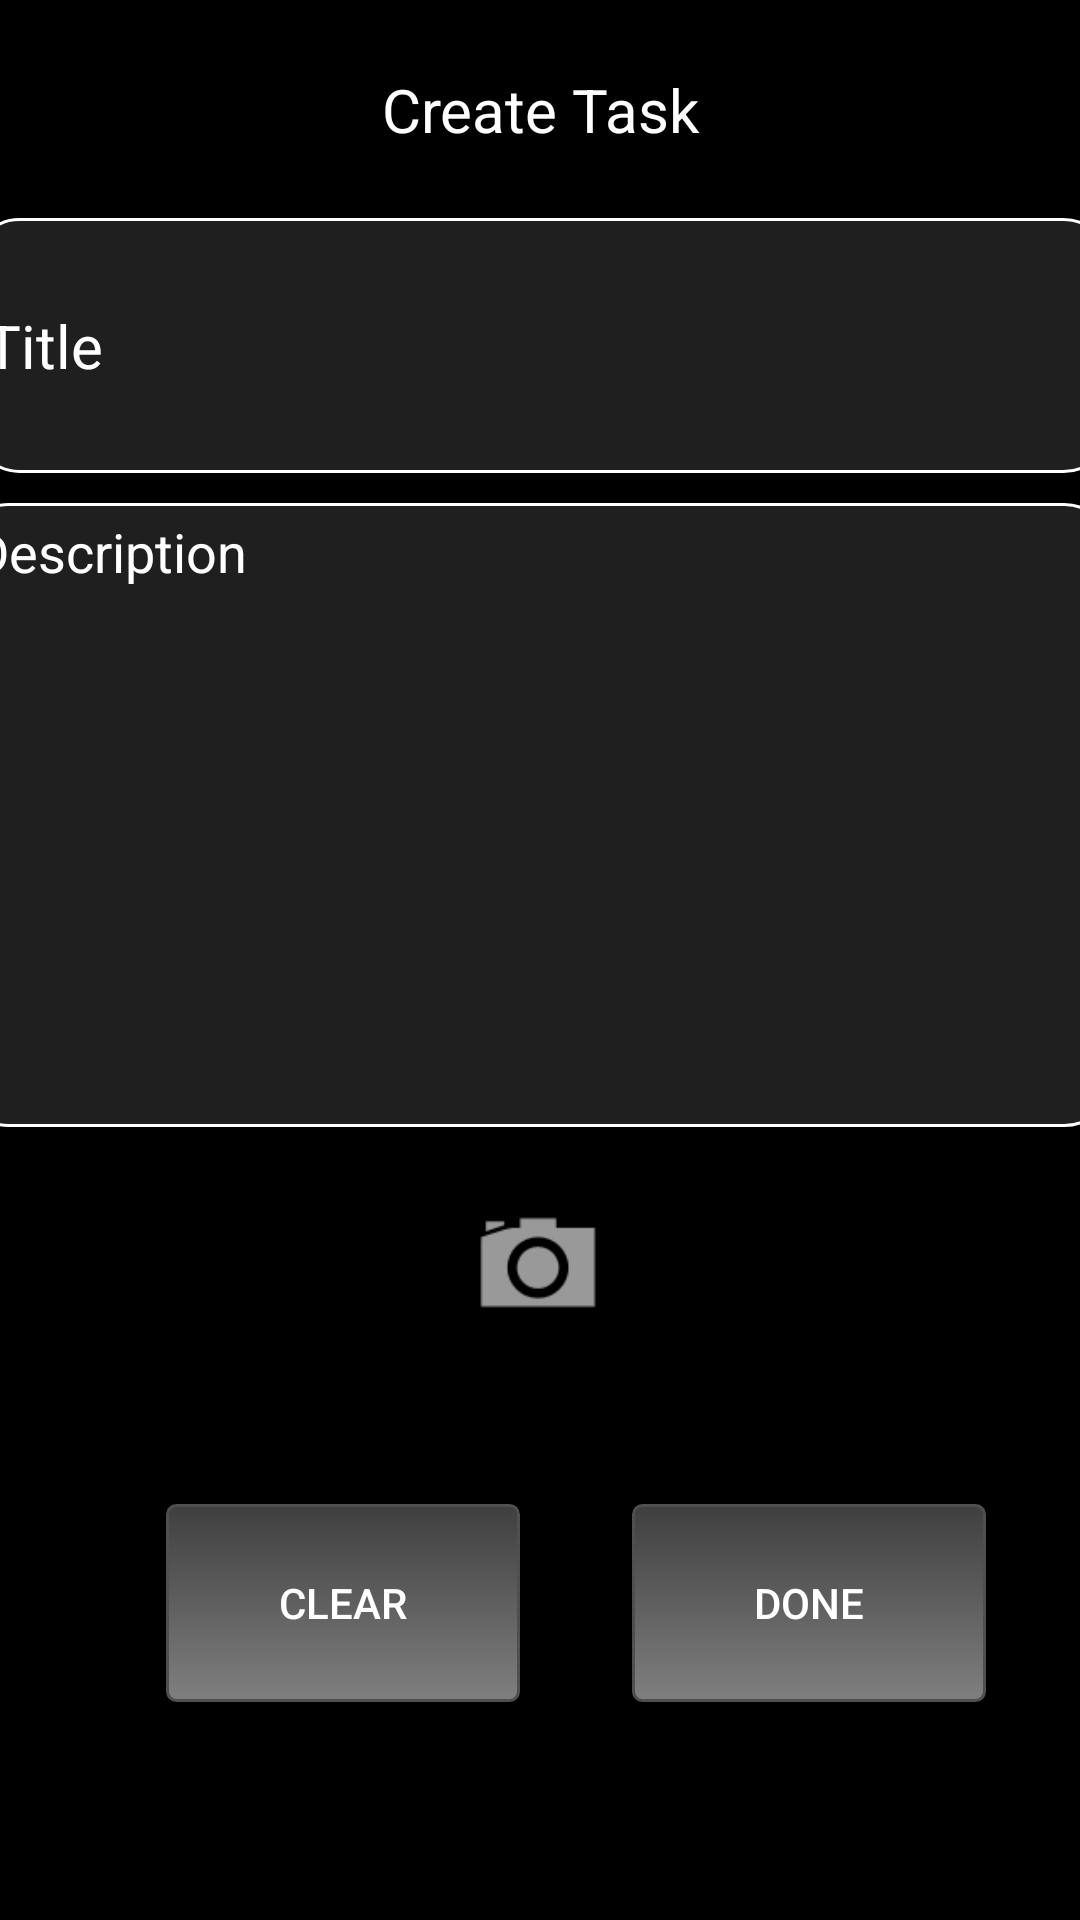

Named icons in this screenshot (1080*1920) and their bounding boxes, (x1, y1, x2, y2):
camera: (480, 1217, 596, 1308)
